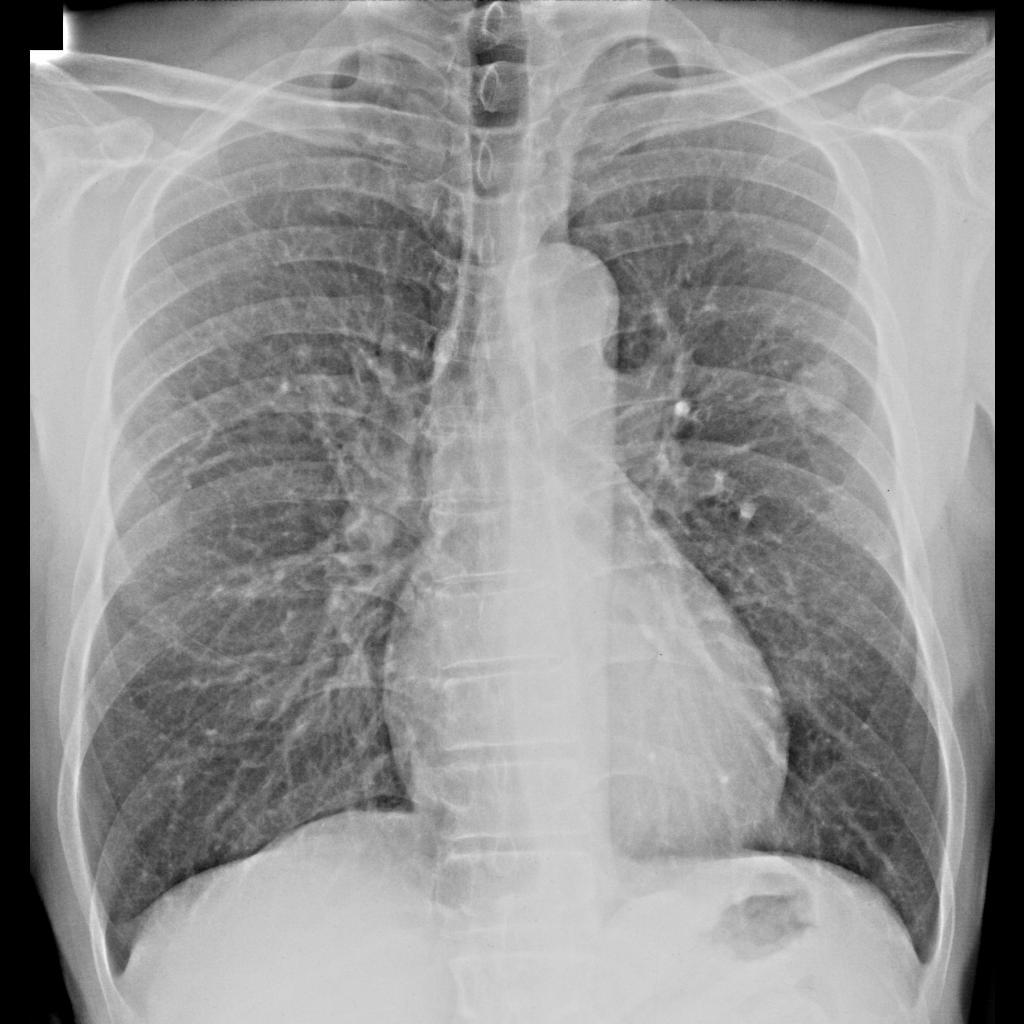Nodule: (792, 362, 842, 413)
